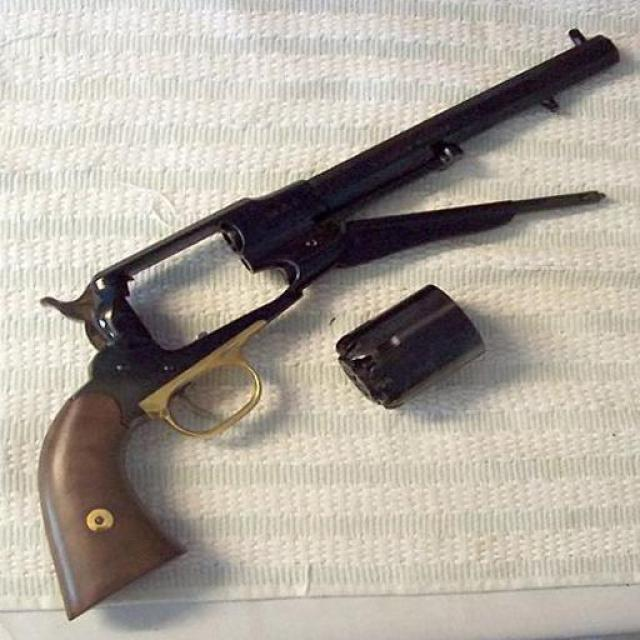pistol: (20, 27, 620, 625)
